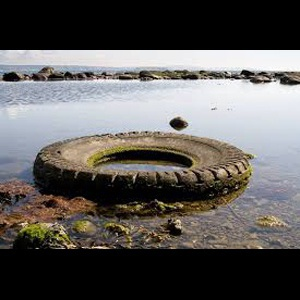tire: (33, 132, 251, 217)
